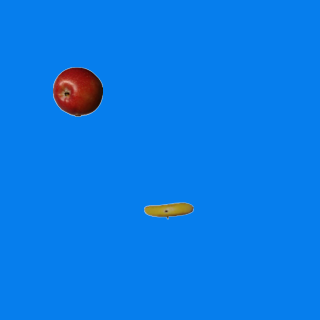Apple Braeburn: (52, 66, 102, 116)
Banana: (143, 185, 193, 235)
